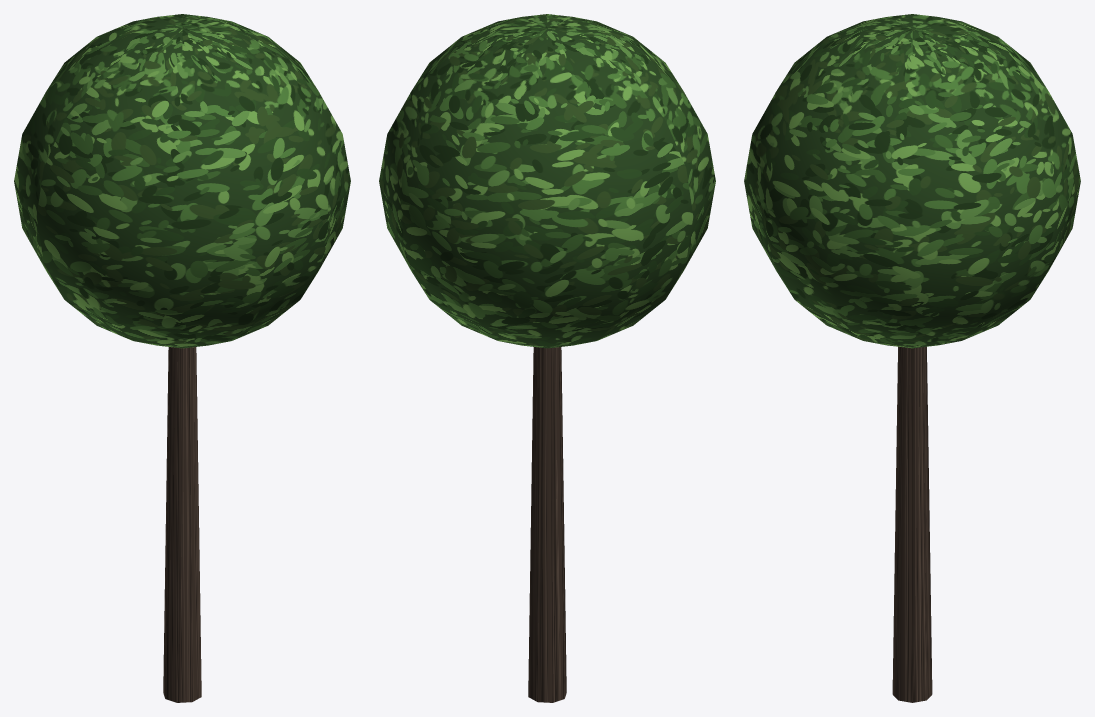
File: arbusto_topiario.obj
The picture shows the model from 3 angles, left to right: view 1: azimuth 30°, elevation 25°; view 2: azimuth 150°, elevation 25°; view 3: azimuth 270°, elevation 25°; orthographic projection.
Visible parts, largest first — view 1: Esfera_Follaje, Tronco_Topiario; view 2: Esfera_Follaje, Tronco_Topiario; view 3: Esfera_Follaje, Tronco_Topiario.
Boxes of the visible parts, box(x1,y1,x2,y2) form: Esfera_Follaje: box(14, 14, 350, 348); Tronco_Topiario: box(163, 347, 201, 702); Esfera_Follaje: box(379, 14, 715, 348); Tronco_Topiario: box(528, 347, 566, 702); Esfera_Follaje: box(744, 14, 1080, 348); Tronco_Topiario: box(892, 346, 932, 702).
Bounding box in the file's own units: 1.1 × 2.4 × 1.1.
Materials: 2 (2 with a texture image).
